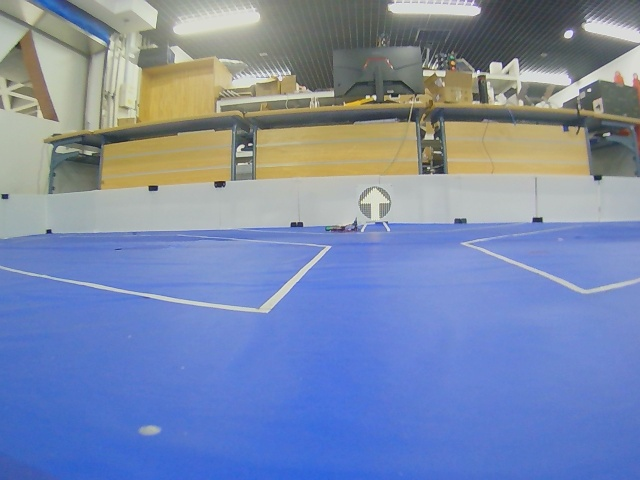straight_yellow: (359, 186, 391, 222)
